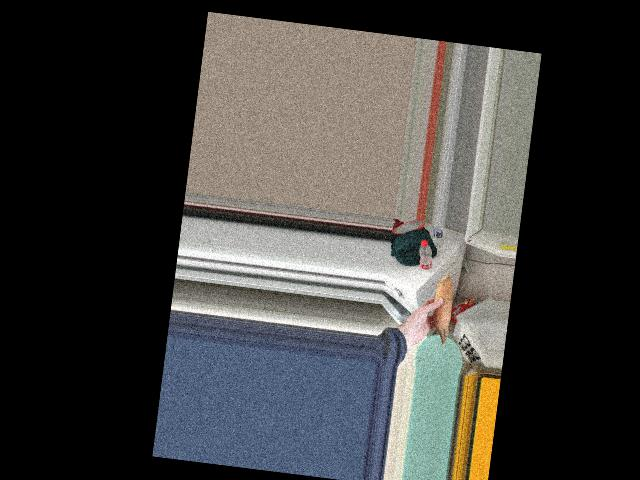sweet_potato: (424, 278, 456, 346)
